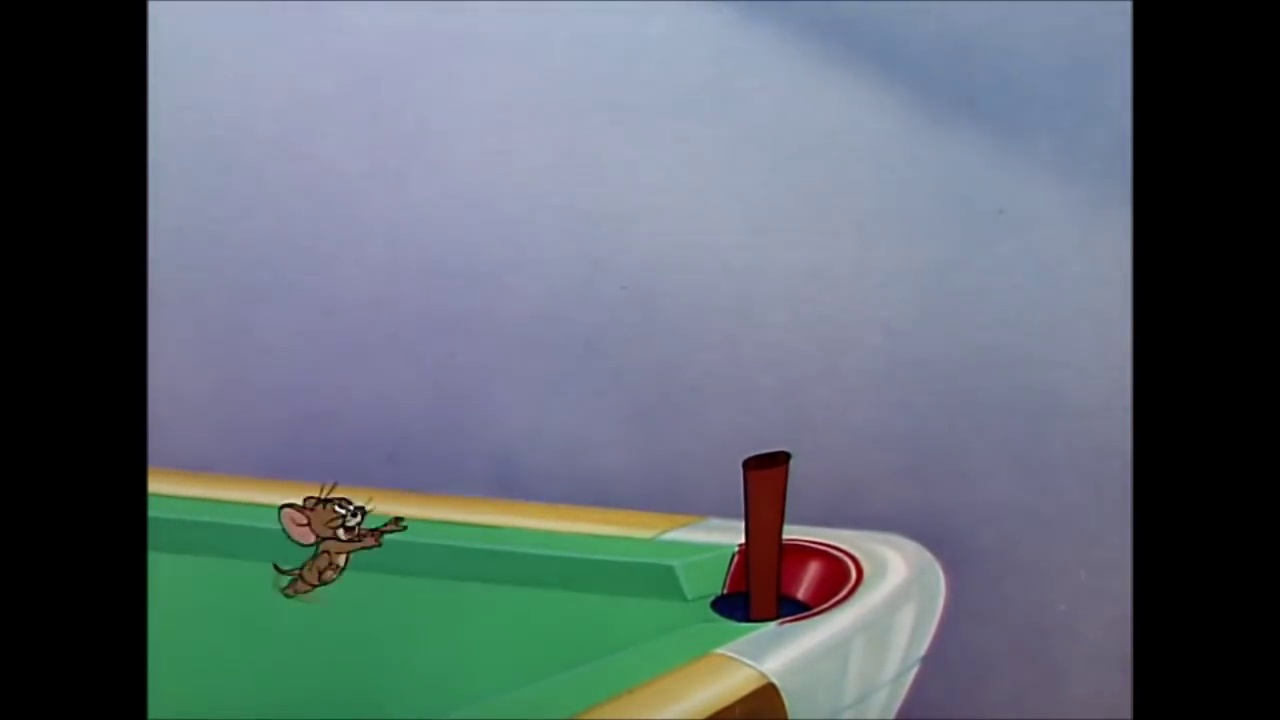happy: (323, 492, 362, 543)
